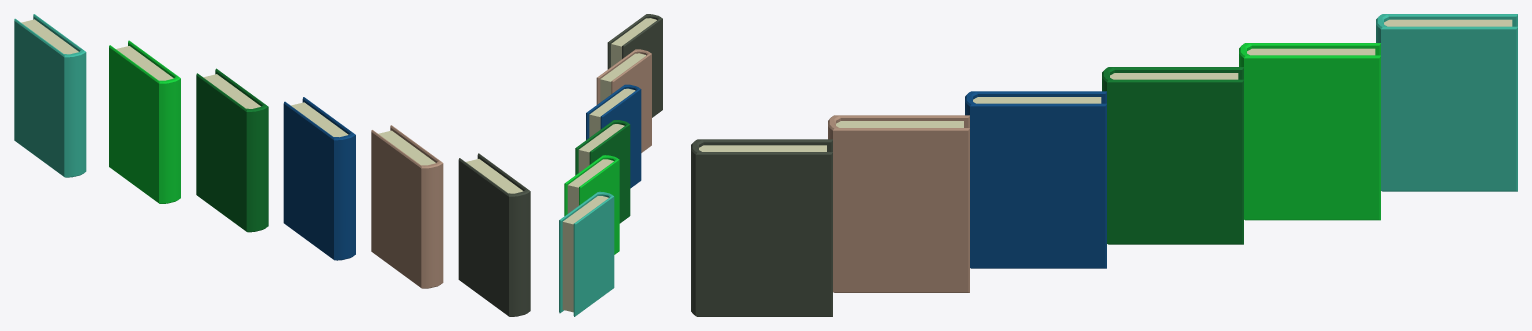
Rendered from book.fbx.
3 views of the same model, side by side, from view 1: azimuth 30°, elevation 25°; view 2: azimuth 150°, elevation 25°; view 3: azimuth 270°, elevation 25° (orthographic). The views are drawn at different scales.
Visible parts, largest first — view 1: book; view 2: book; view 3: book.
Part boxes in pixels (x1,y1,x2,y2): book: (14, 14, 530, 316); book: (559, 14, 662, 316); book: (691, 14, 1517, 316).
Bounding box in the file's own units: 29 × 15.89 × 72.42.
